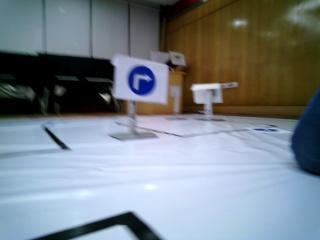right: (114, 60, 168, 99)
